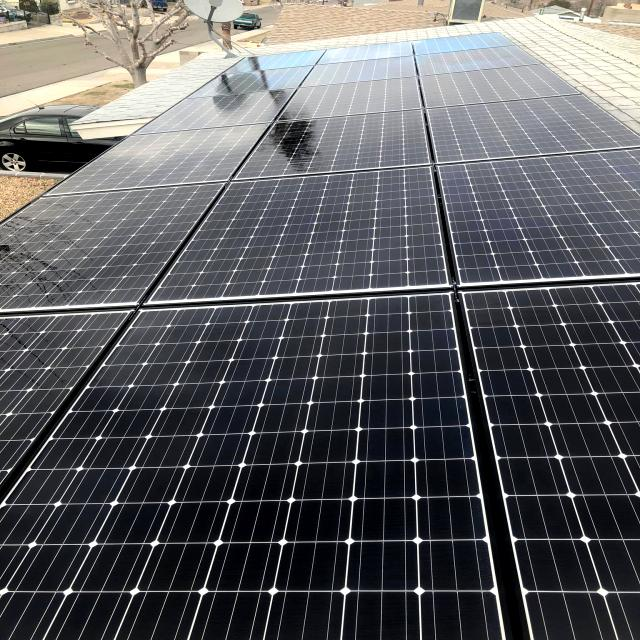crack: (221, 469, 417, 579), (84, 413, 287, 517), (240, 189, 440, 272), (267, 119, 477, 188), (260, 361, 416, 451), (134, 327, 258, 402), (290, 66, 437, 129)
